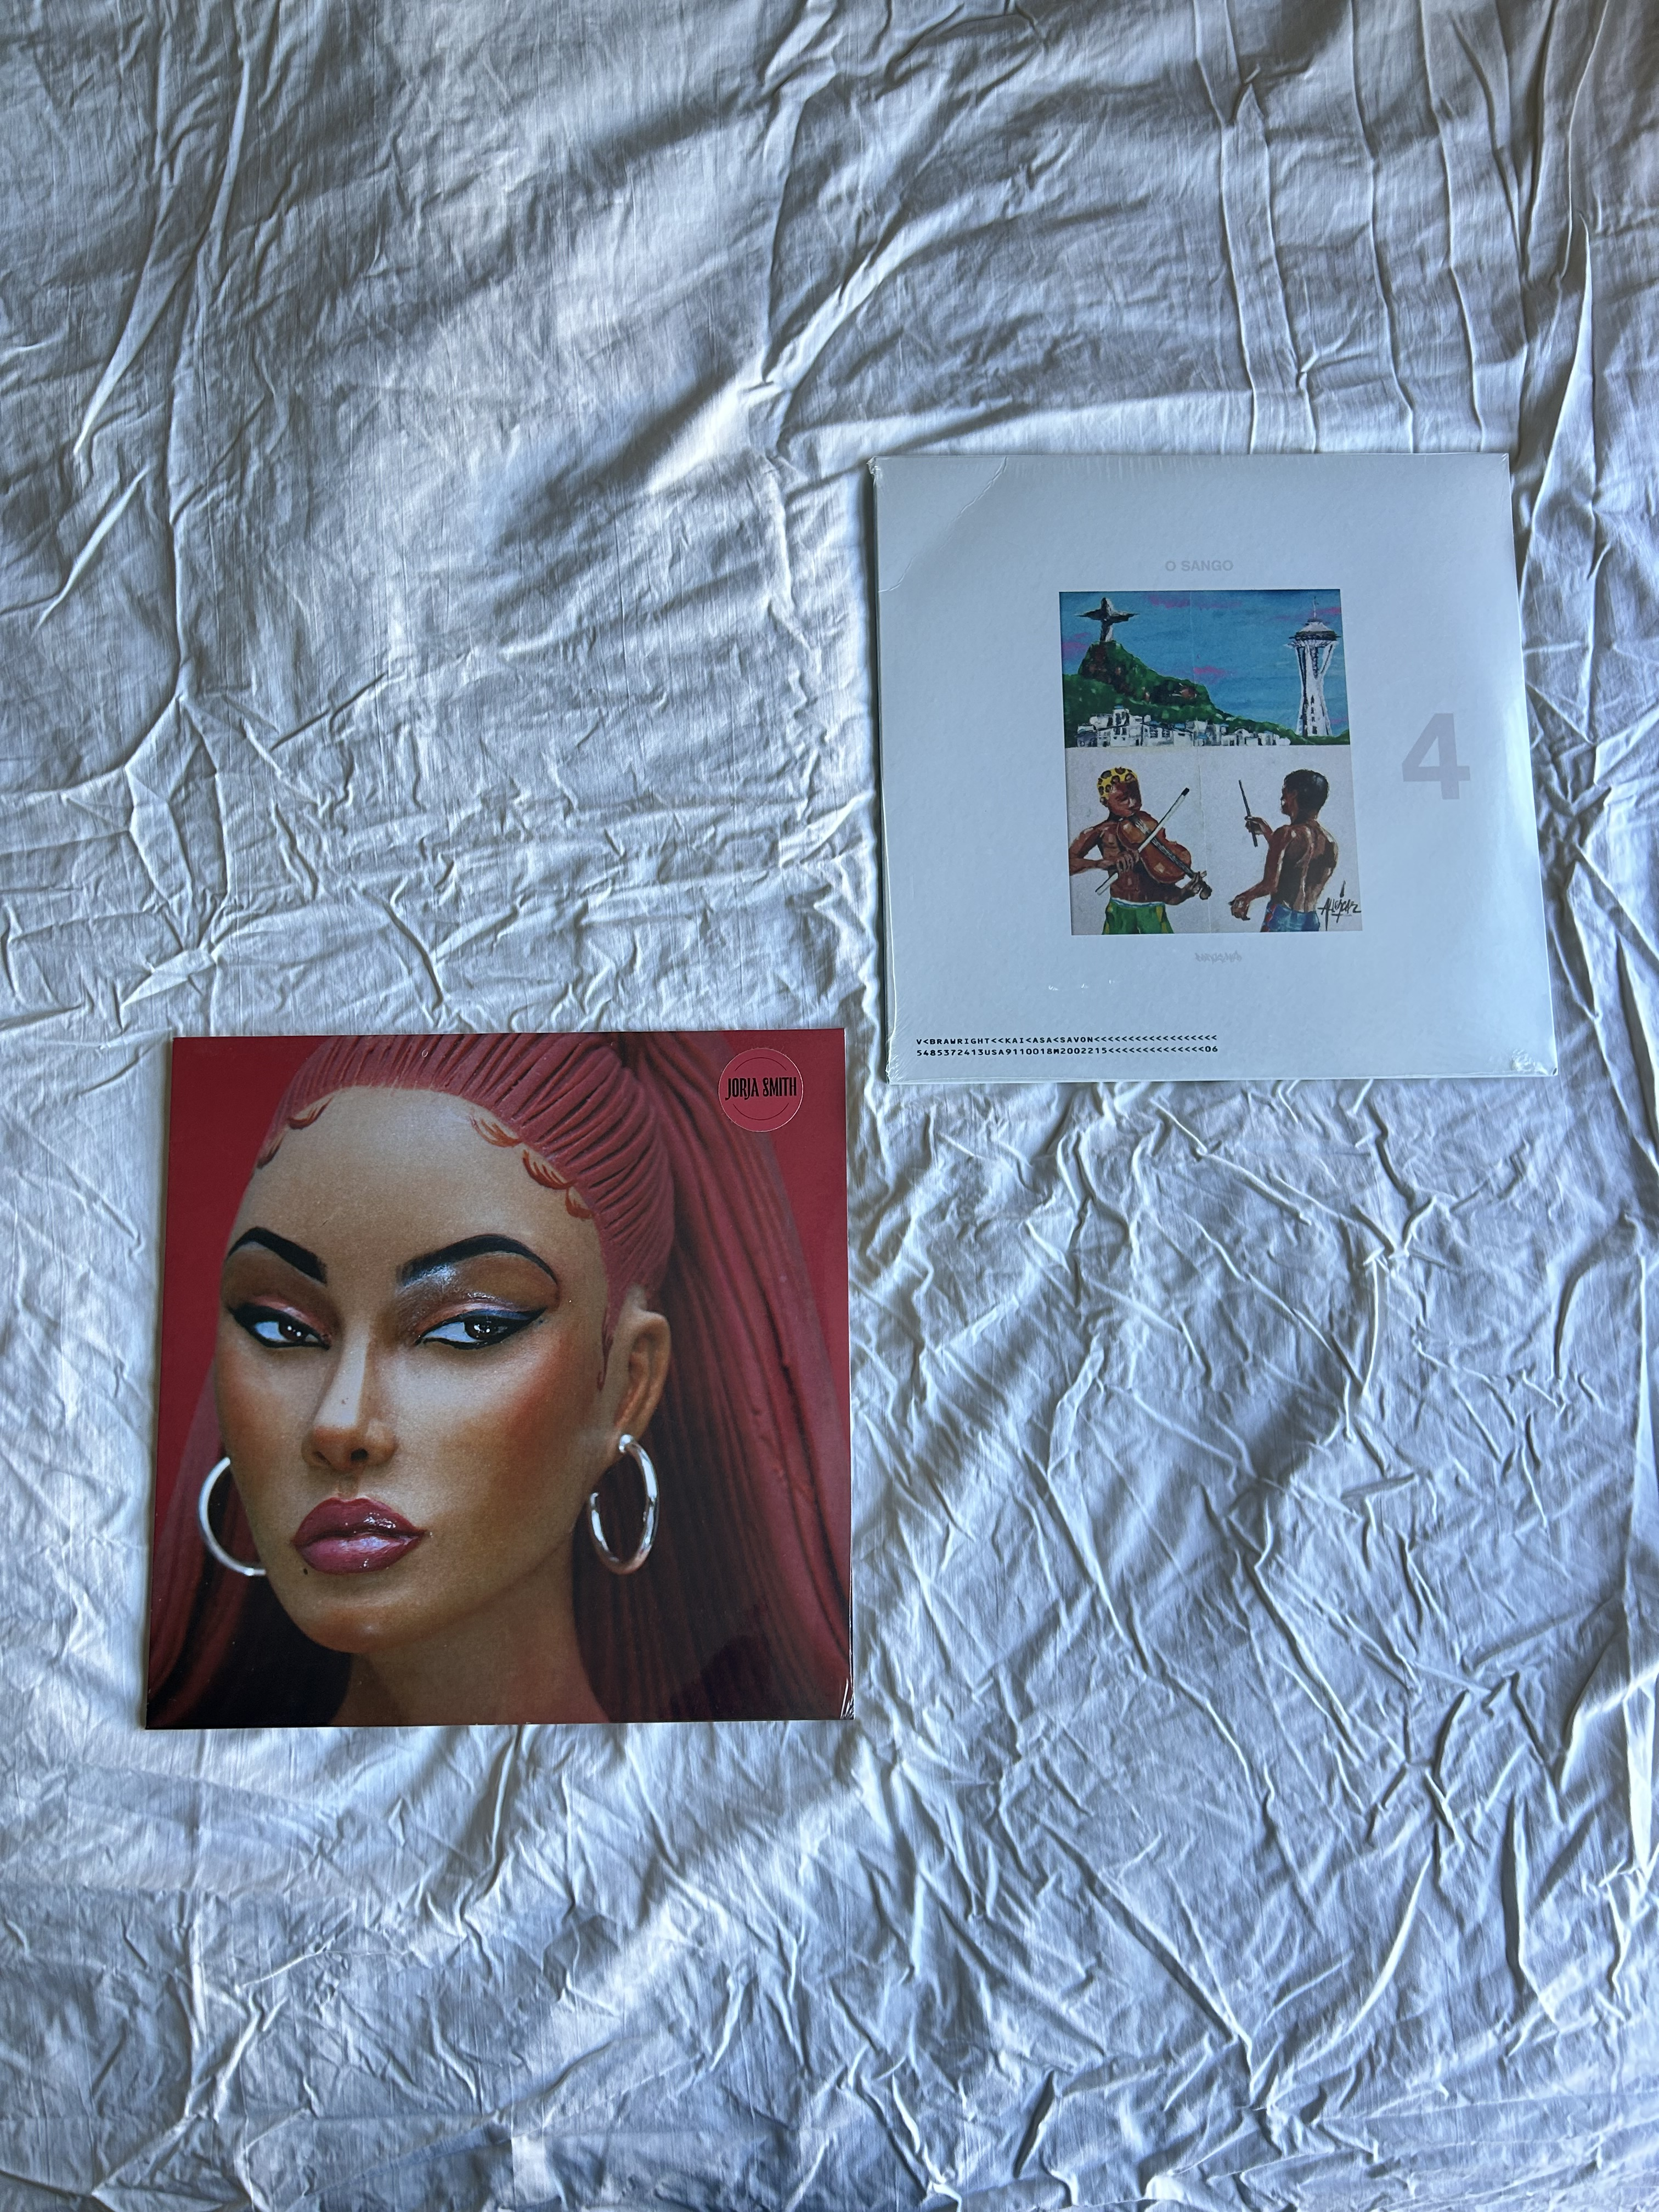jorja smith_be right back: (138, 1031, 856, 1735)
sango_da rocinha 4: (866, 460, 1556, 1083)
